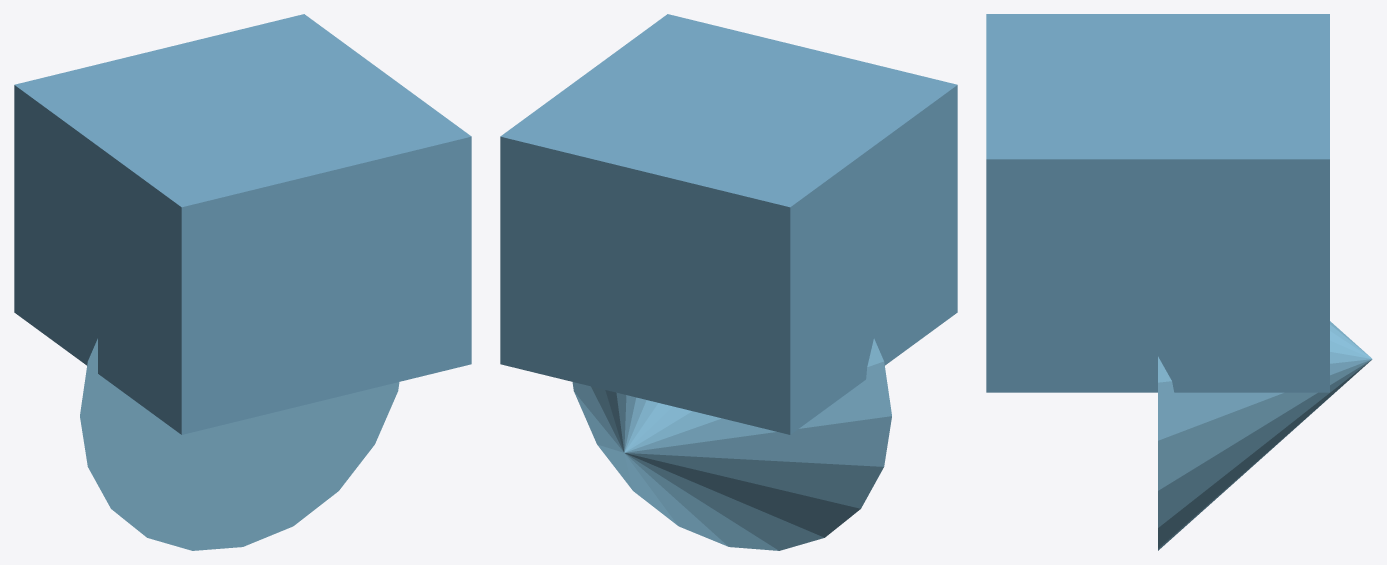
The model's file is source.glb.
3 views of the same model, side by side, from view 1: azimuth 30°, elevation 25°; view 2: azimuth 150°, elevation 25°; view 3: azimuth 270°, elevation 25° (orthographic). The views are drawn at different scales.
Visible parts, largest first — view 1: source_0, source_1; view 2: source_0, source_1; view 3: source_0, source_1.
Part boxes in pixels (x1,y1,x2,y2): source_0: [14, 14, 471, 434]; source_1: [80, 338, 399, 550]; source_0: [500, 14, 957, 434]; source_1: [572, 338, 891, 550]; source_0: [986, 14, 1329, 392]; source_1: [1158, 321, 1372, 550].
Bounding box in the file's own units: 1.8 × 2.3 × 1.8.
